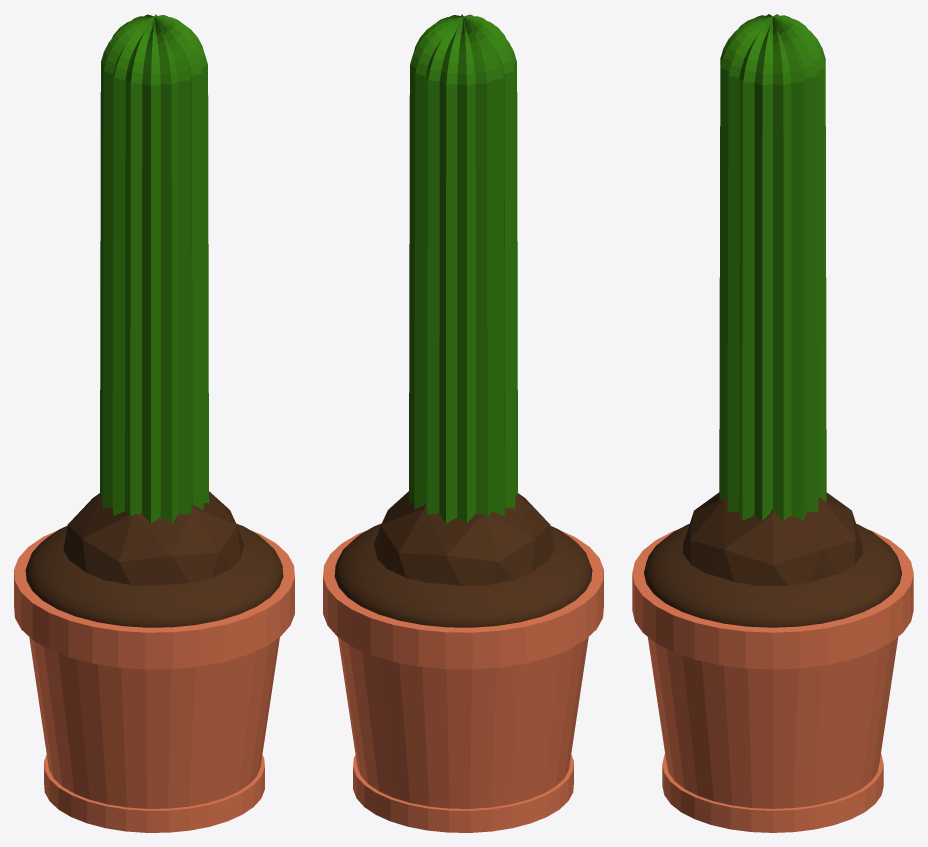
The model's file is Cactus2.fbx.
The picture shows the model from 3 angles, left to right: view 1: azimuth 30°, elevation 25°; view 2: azimuth 150°, elevation 25°; view 3: azimuth 270°, elevation 25°; orthographic projection.
Visible parts, largest first — view 1: Sphere, Vase, Sphere.006, Icosphere; view 2: Sphere, Vase, Sphere.006, Icosphere; view 3: Sphere, Vase, Sphere.006, Icosphere.
Part boxes in pixels (<box>): Sphere: <box>100,14,208,523</box>; Vase: <box>14,530,294,832</box>; Sphere.006: <box>25,523,283,627</box>; Icosphere: <box>63,491,244,585</box>; Sphere: <box>409,14,517,523</box>; Vase: <box>323,530,603,832</box>; Sphere.006: <box>334,523,592,627</box>; Icosphere: <box>373,491,554,585</box>; Sphere: <box>719,14,826,520</box>; Vase: <box>632,530,913,832</box>; Sphere.006: <box>644,524,901,627</box>; Icosphere: <box>682,492,863,585</box>.
Bounding box in the file's own units: 218 × 657 × 218.
